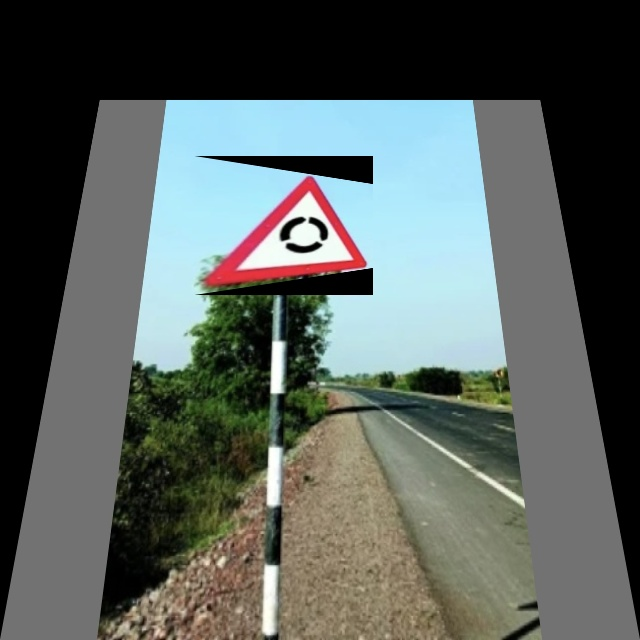Round_About: (194, 156, 373, 295)
